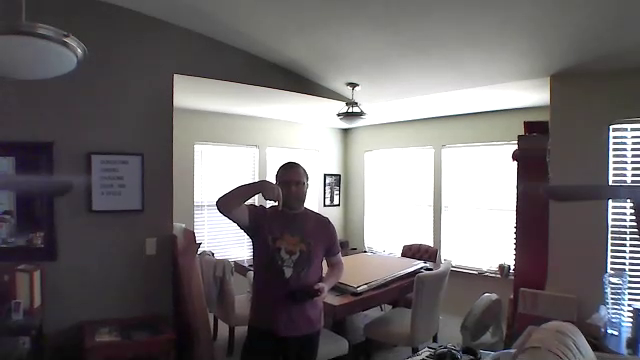down: (255, 176, 288, 215)
